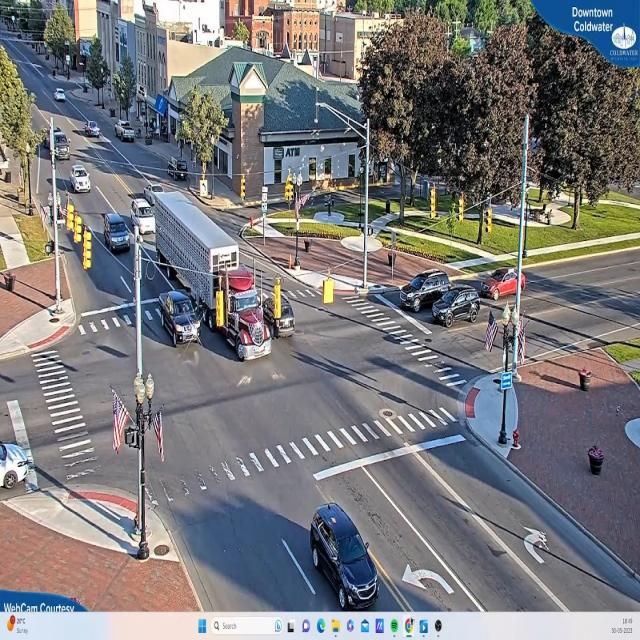car: (310, 504, 380, 608), (158, 288, 202, 340), (400, 272, 455, 313), (432, 289, 480, 327), (0, 443, 39, 489), (483, 270, 528, 303), (106, 213, 134, 252), (72, 164, 93, 193), (117, 121, 137, 145), (54, 132, 70, 158), (86, 121, 102, 137)
truck: (198, 231, 274, 383)
